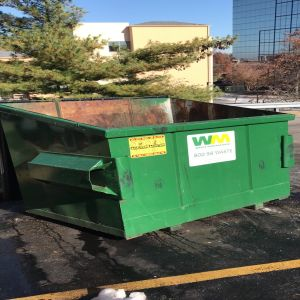Dumpster: (1, 93, 296, 245)
